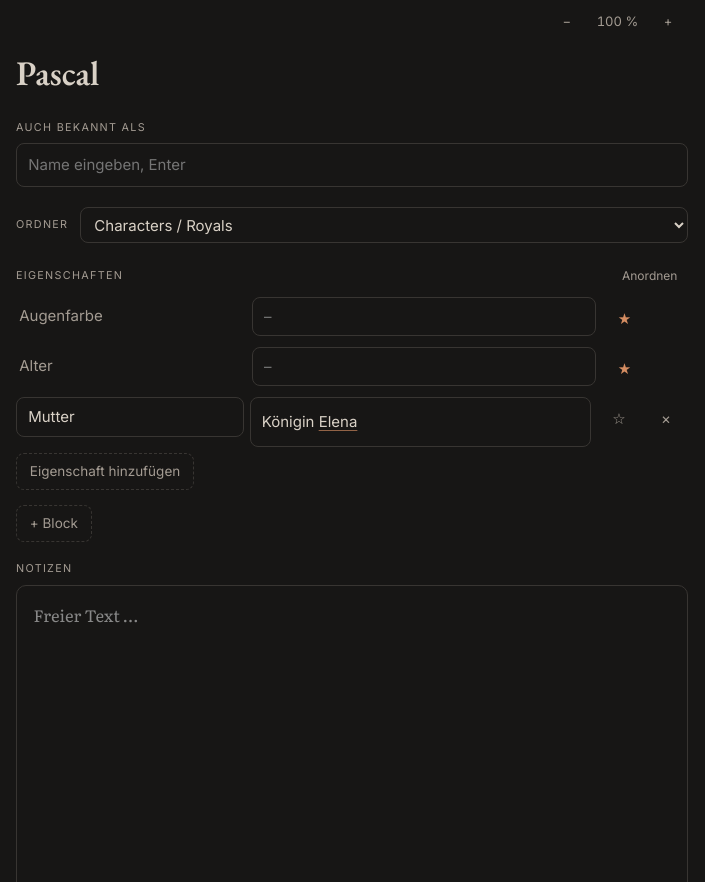
a property value naming another entry shows a link until it is edited
Expected: the field named "Name" is shown, x1=16 y1=48 x2=688 y2=100
Click the button "Elena" at (338, 422), box x1=319 y1=406 x2=357 y2=438
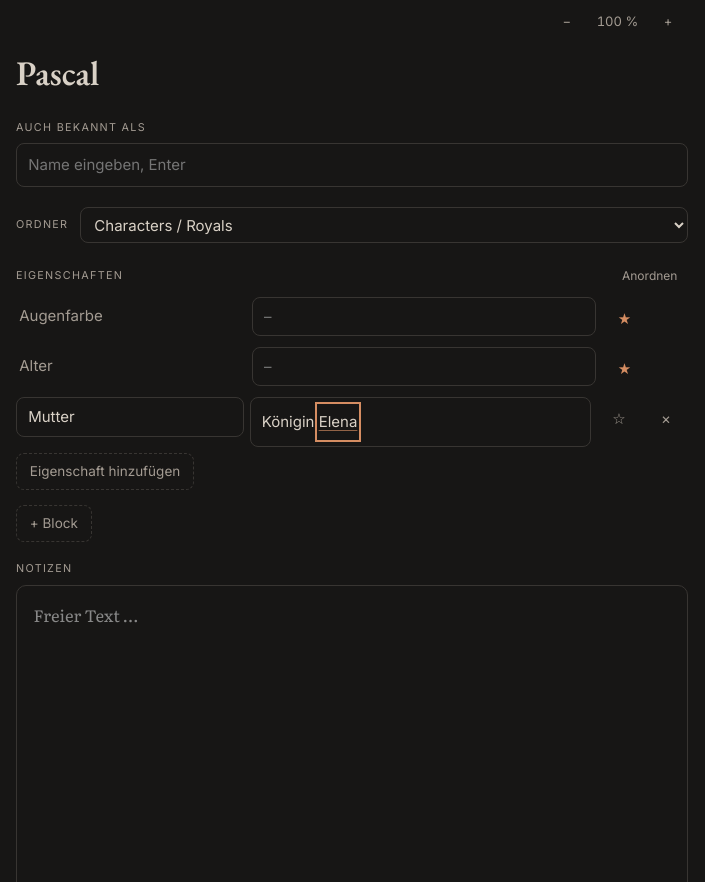
Click the field "Königin" at (420, 422), box x1=250 y1=397 x2=591 y2=447
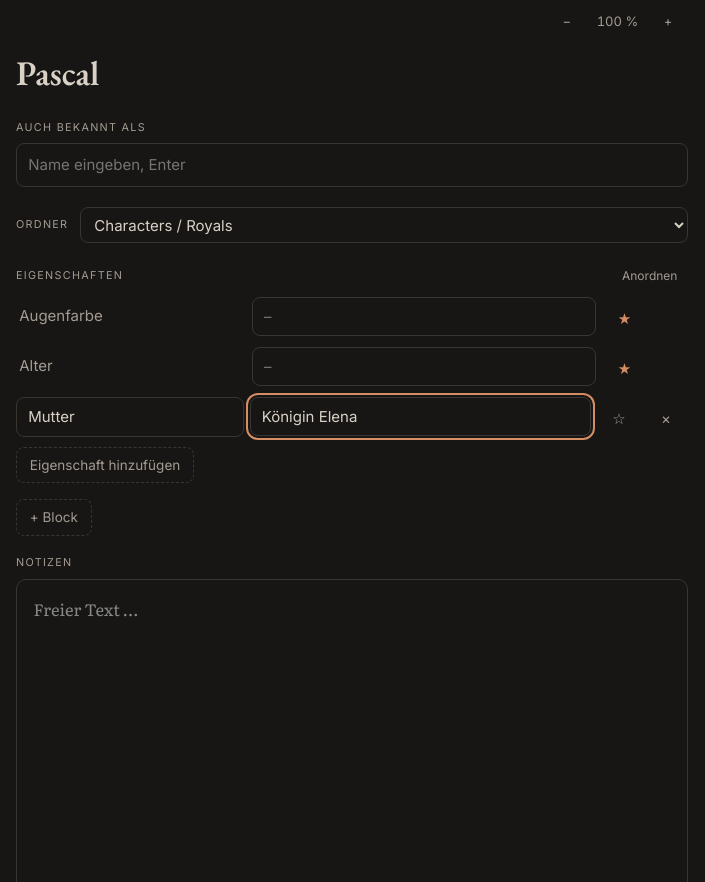
Expected: the text box named "Wert" holds "Königin Elena", x1=250 y1=397 x2=591 y2=436
